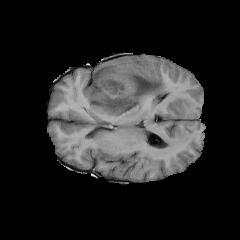glioma: (83, 57, 168, 117)
